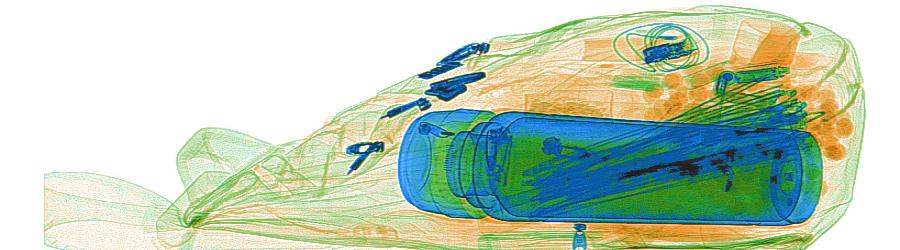battery: (733, 66, 779, 84)
